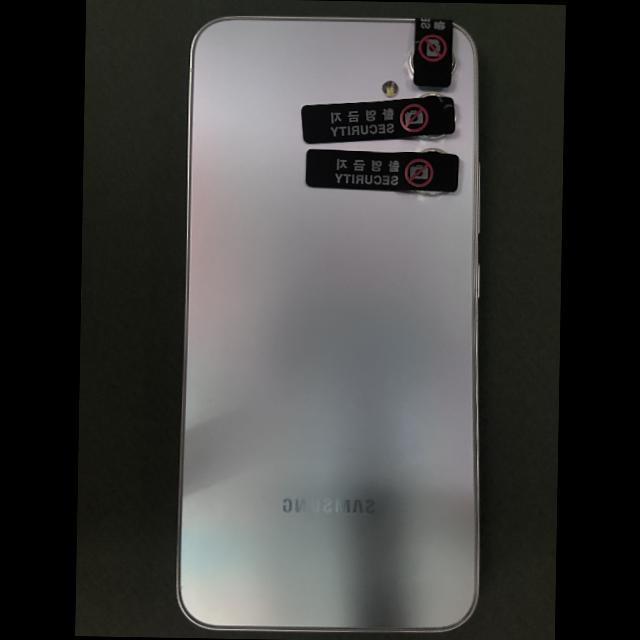lens: (421, 134, 447, 141), (422, 149, 444, 154), (451, 54, 454, 73)
phone: (175, 16, 478, 632)
sticker: (301, 96, 455, 144), (305, 149, 459, 191), (412, 17, 452, 87)
